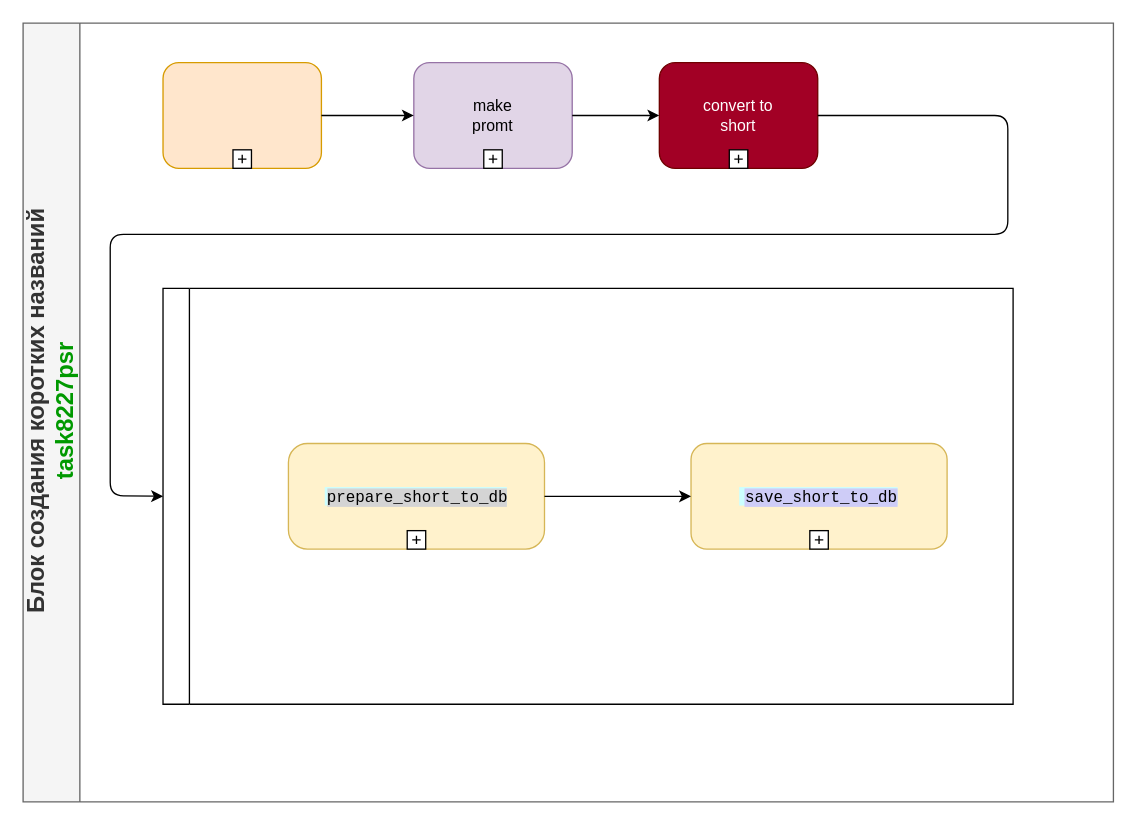
Image size: 1137x825. Some labels were removed from this diagram. Here are the shapes that lost their labels. From the top down, the box of each, then its label:
(162, 61, 321, 168): get packet
(162, 287, 1013, 704): сохранение коротких названий в базу
